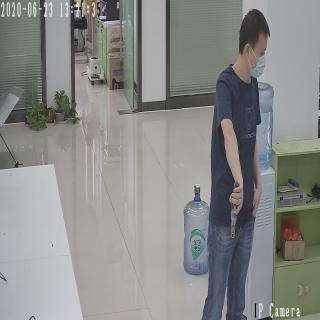gun: (226, 180, 240, 238)
